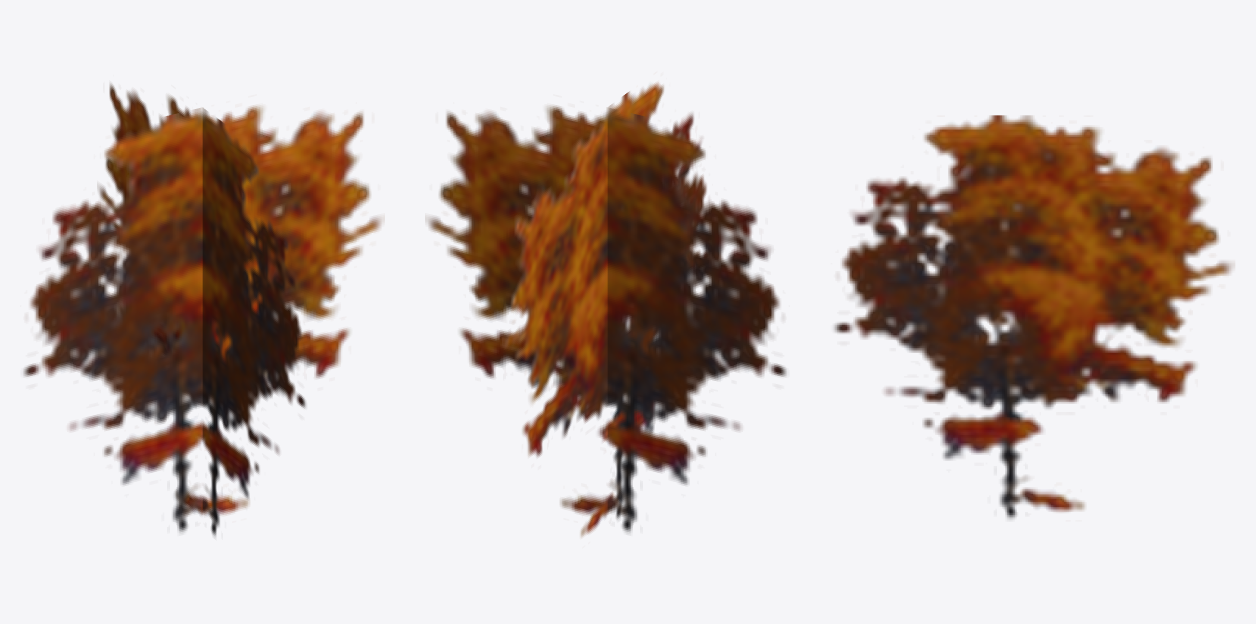
The model's file is tree7.glb.
3 renders of one model, left to right at view 1: azimuth 30°, elevation 25°; view 2: azimuth 150°, elevation 25°; view 3: azimuth 270°, elevation 25°, orthographic. The views are drawn at different scales.
Visible parts, largest first — view 1: tree7; view 2: tree7; view 3: tree7.
Boxes of the visible parts, box(x1,y1,x2,y2) form: tree7: box(23, 83, 384, 536); tree7: box(425, 82, 786, 536); tree7: box(834, 115, 1234, 519).
Size of the model in its own units: 14 by 15.5 by 14.
1 material, 1 textured.
